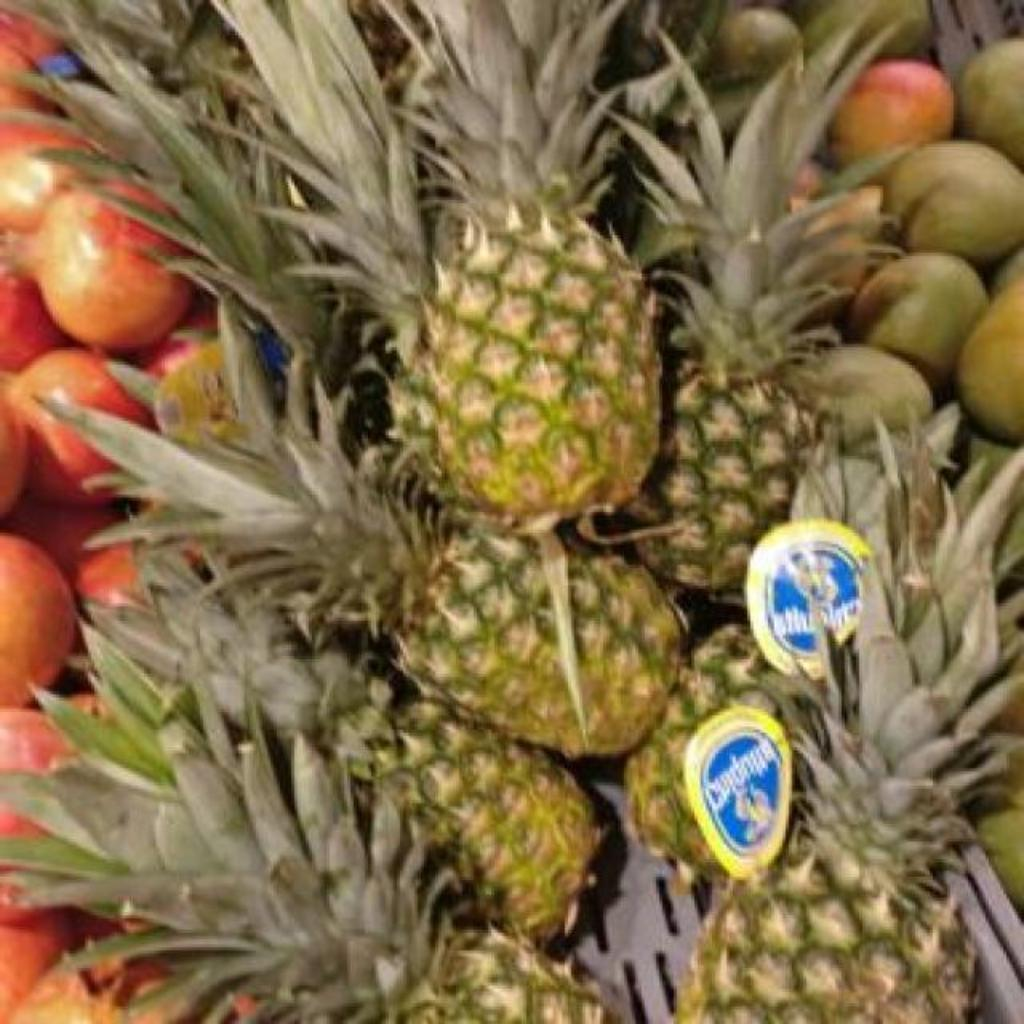pineapple: (68, 412, 680, 757), (678, 436, 1024, 1023), (6, 706, 610, 1023), (140, 582, 600, 939), (396, 0, 660, 527), (628, 56, 876, 591), (624, 624, 792, 875)
